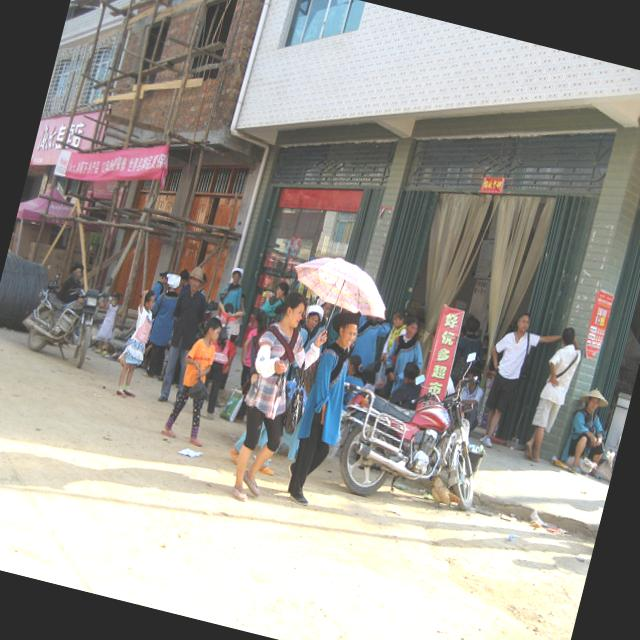Vehicle: (326, 326, 508, 522), (15, 258, 113, 371)
